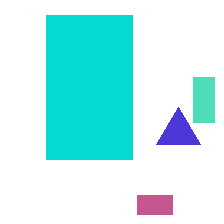rectangle: (46, 15, 132, 159), (193, 77, 214, 122), (137, 195, 172, 214)
triangle: (156, 107, 200, 144)
